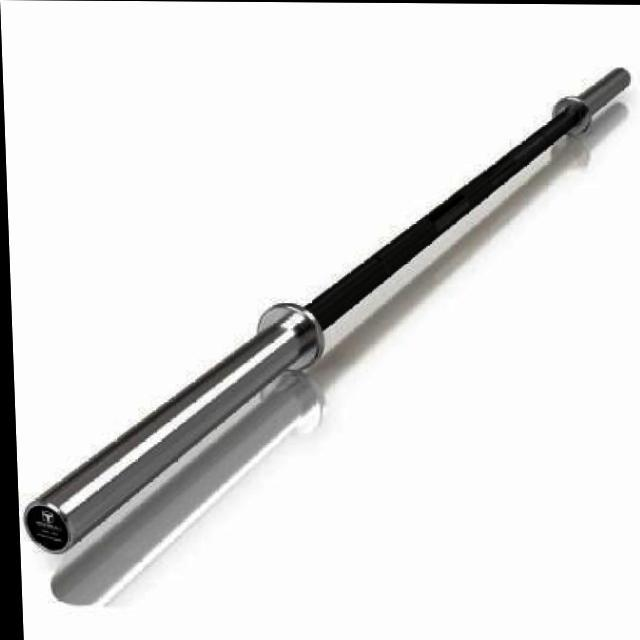barbell: (10, 298, 335, 565)
